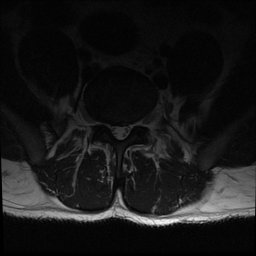CCS_stenosis: (117, 119, 123, 144)
LFS_severe_stenosis: (130, 116, 137, 135)
LLS_normal: (123, 119, 130, 140)
RFS_severe_stenosis: (102, 114, 110, 133)
RLS_normal: (110, 119, 117, 140)
